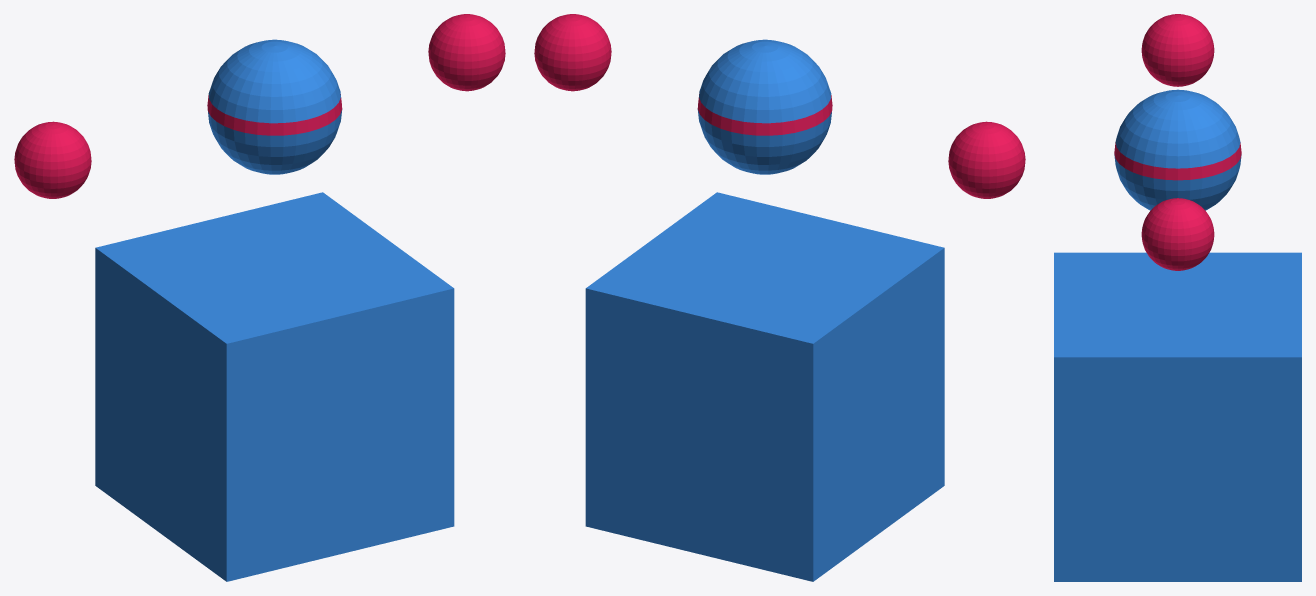
The model's file is parented_objects.gltf.
The picture shows the model from 3 angles, left to right: view 1: azimuth 30°, elevation 25°; view 2: azimuth 150°, elevation 25°; view 3: azimuth 270°, elevation 25°; orthographic projection. The views are drawn at different scales.
Parts seen in each view (by area): view 1: Cube, Sphere, Sphere.002, Sphere.001; view 2: Cube, Sphere, Sphere.002, Sphere.001; view 3: Cube, Sphere, Sphere.001, Sphere.002.
Boxes of the visible parts, <box> form: Cube: <box>95,192,454,581</box>; Sphere: <box>207,39,342,174</box>; Sphere.002: <box>14,121,91,198</box>; Sphere.001: <box>428,14,505,91</box>; Cube: <box>585,192,944,581</box>; Sphere: <box>697,39,832,174</box>; Sphere.002: <box>948,121,1025,198</box>; Sphere.001: <box>534,14,611,91</box>; Cube: <box>1054,252,1301,581</box>; Sphere: <box>1114,89,1241,210</box>; Sphere.001: <box>1141,198,1214,270</box>; Sphere.002: <box>1141,14,1214,86</box>.
Size of the model in its own units: 4.88 by 4.46 by 2.31.
